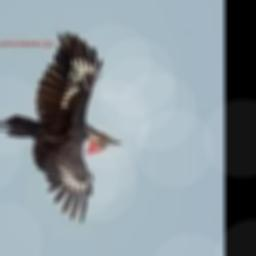Woodpecker: (0, 34, 120, 224)
